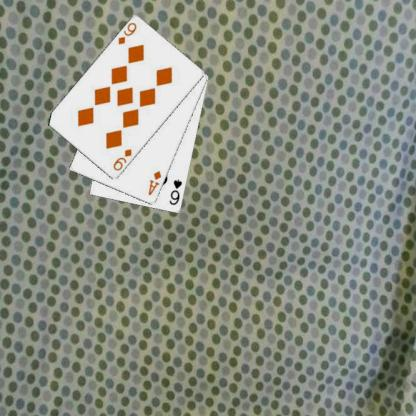6S: (166, 177, 184, 207)
9D: (115, 20, 138, 46), (111, 146, 133, 172)
AD: (146, 168, 163, 197)
